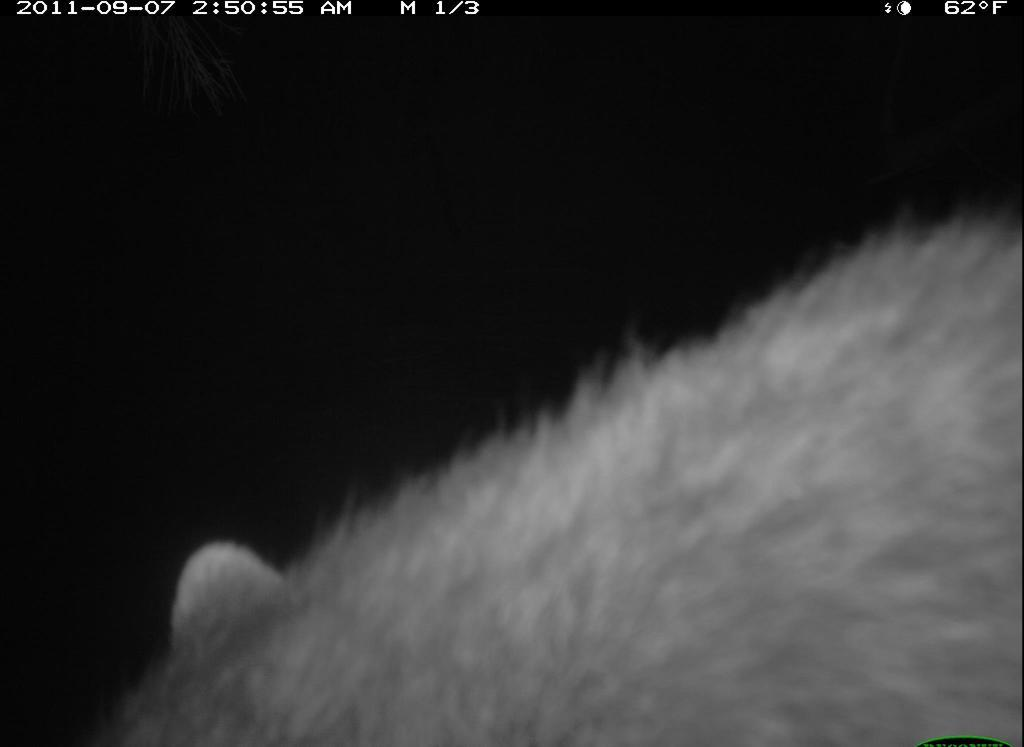raccoon: (103, 203, 1023, 747)
